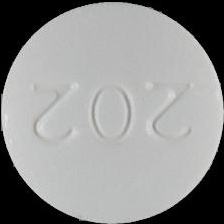50436-0274: (0, 0, 224, 224)
